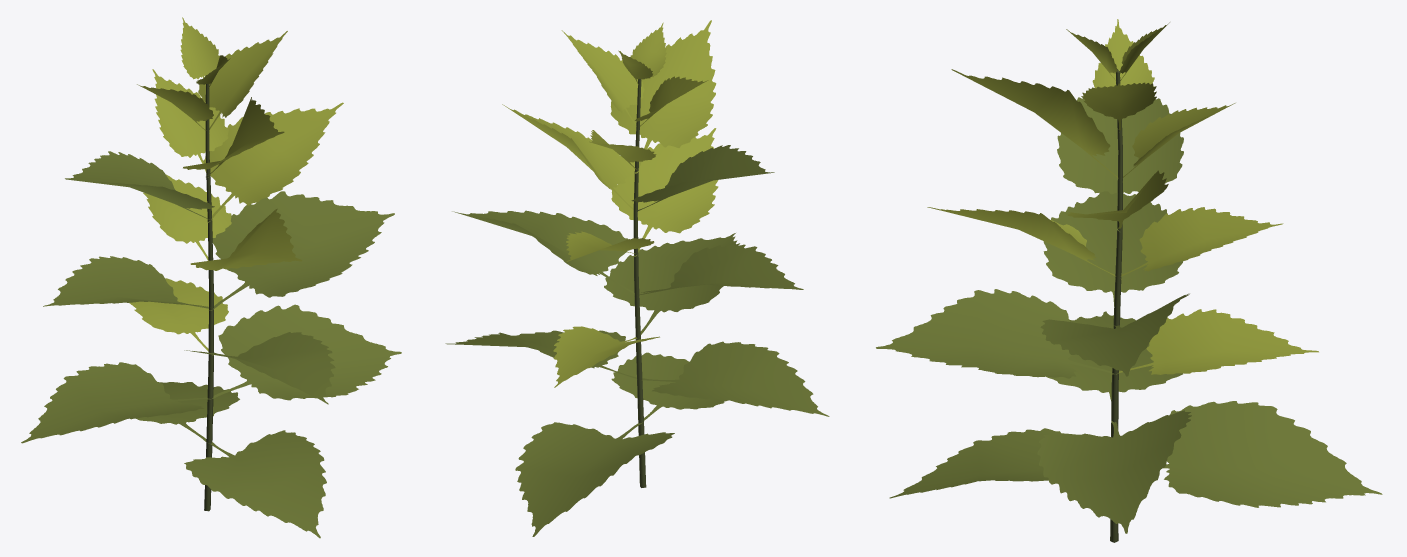
The model's file is Stinging_Nettle_2.fbx.
The picture shows the model from 3 angles, left to right: view 1: azimuth 30°, elevation 25°; view 2: azimuth 150°, elevation 25°; view 3: azimuth 270°, elevation 25°; orthographic projection. The views are drawn at different scales.
Parts seen in each view (by area): view 1: Stinging_Nettle_2; view 2: Stinging_Nettle_2; view 3: Stinging_Nettle_2.
Part boxes in pixels (left/top/right/bottom): Stinging_Nettle_2: left=21, top=17, right=401, bottom=538; Stinging_Nettle_2: left=445, top=20, right=829, bottom=536; Stinging_Nettle_2: left=876, top=19, right=1382, bottom=542.
Size of the model in its own units: 78.97 by 88.56 by 80.93.
Materials: 1 (1 with a texture image).
